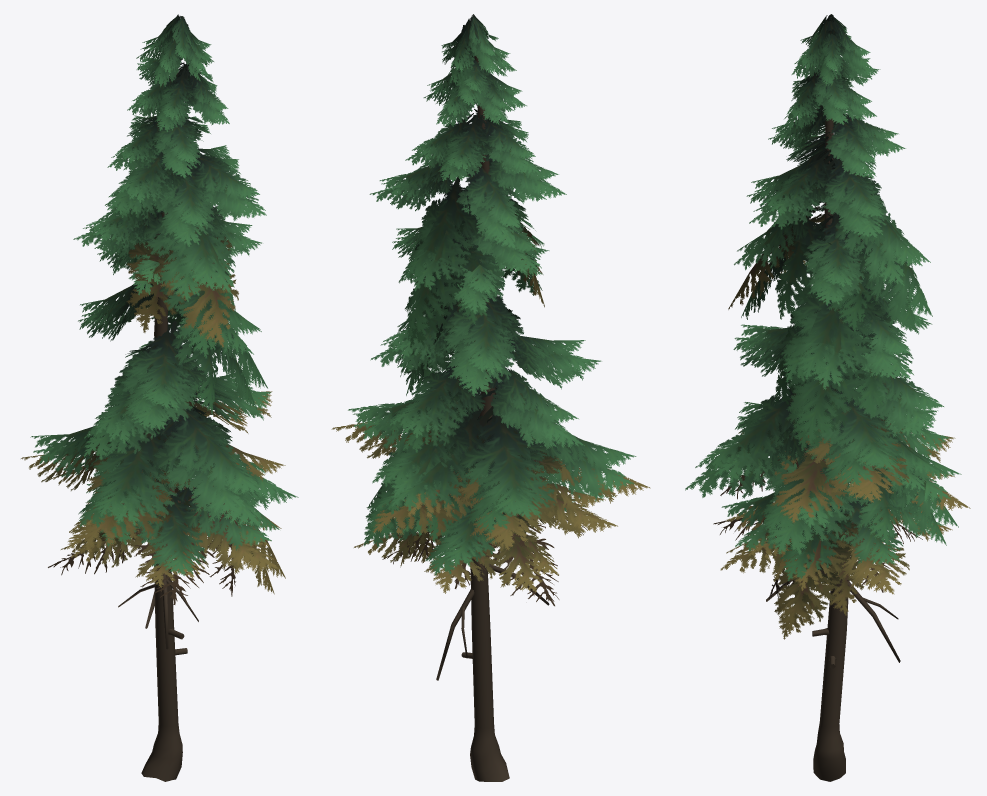
File: Fir_Bl+Ñ.L.A.X2.fbx
3 renders of one model, left to right at view 1: azimuth 30°, elevation 25°; view 2: azimuth 150°, elevation 25°; view 3: azimuth 270°, elevation 25°, orthographic.
Visible parts, largest first — view 1: Fir_Blå_L_A_X2; view 2: Fir_Blå_L_A_X2; view 3: Fir_Blå_L_A_X2.
Part boxes in pixels (bbox=[...]): Fir_Blå_L_A_X2: bbox=[21, 14, 298, 781]; Fir_Blå_L_A_X2: bbox=[331, 14, 650, 781]; Fir_Blå_L_A_X2: bbox=[685, 14, 970, 781].
Bounding box in the file's own units: 544 × 1483 × 509.
